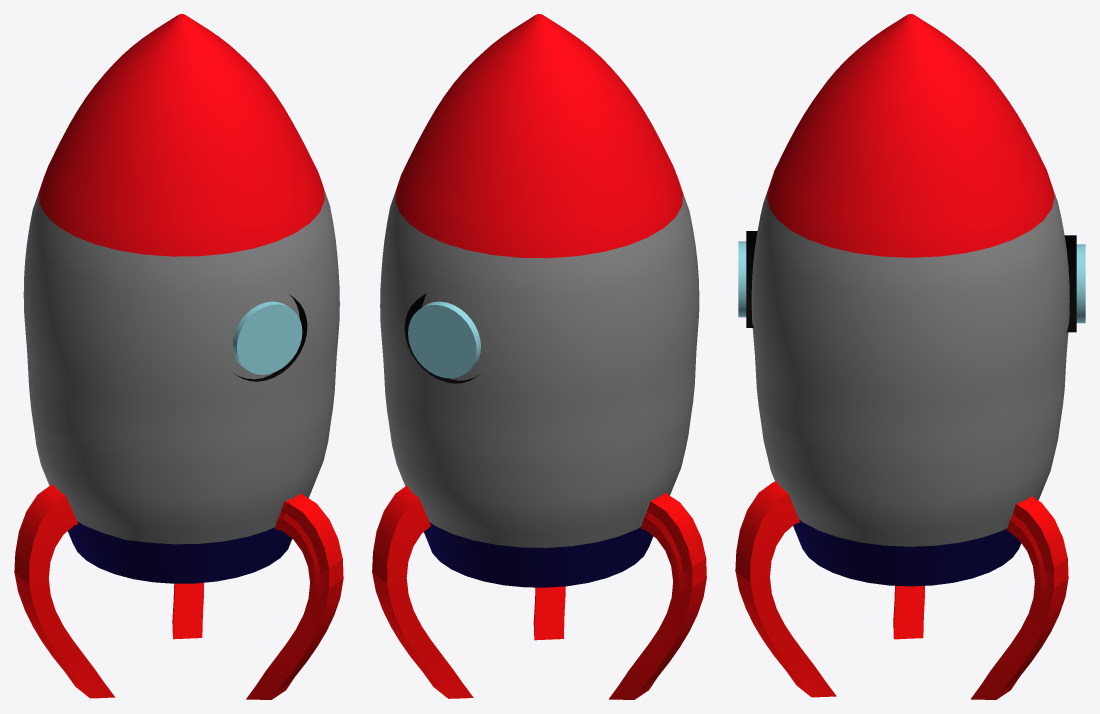
Rendered from roket.fbx.
The picture shows the model from 3 angles, left to right: view 1: azimuth 30°, elevation 25°; view 2: azimuth 150°, elevation 25°; view 3: azimuth 270°, elevation 25°; orthographic projection.
Visible parts, largest first — view 1: Roket_ana_gövde, Roket_kafası, Roket_itici, Ayak_3, Ayak_2, Pencere_2, Ayak_1, Pencere_çerçeveleri; view 2: Roket_ana_gövde, Roket_kafası, Roket_itici, Ayak_3, Ayak_1, Pencere_1, Ayak_2, Pencere_çerçeveleri; view 3: Roket_ana_gövde, Roket_kafası, Roket_itici, Ayak_2, Ayak_1, Ayak_3, Pencere_çerçeveleri, Pencere_1, Pencere_2.
Part boxes in pixels (box(x1,y1,x2,y2)): Roket_ana_gövde: box(23, 189, 339, 544); Roket_kafası: box(39, 14, 324, 256); Roket_itici: box(68, 521, 291, 583); Ayak_3: box(14, 484, 115, 698); Ayak_2: box(246, 493, 343, 699); Pencere_2: box(233, 301, 302, 374); Ayak_1: box(172, 582, 203, 639); Pencere_çerçeveleri: box(234, 294, 307, 381); Roket_ana_gövde: box(380, 191, 699, 547); Roket_kafası: box(395, 14, 683, 258); Roket_itici: box(424, 522, 653, 587); Ayak_3: box(609, 492, 706, 699); Ayak_1: box(372, 485, 473, 698); Pencere_1: box(408, 301, 480, 378); Ayak_2: box(533, 586, 565, 640); Pencere_çerçeveleri: box(404, 293, 479, 383); Roket_ana_gövde: box(751, 186, 1069, 546); Roket_kafası: box(767, 14, 1054, 257); Roket_itici: box(793, 519, 1021, 586); Ayak_2: box(735, 481, 836, 697); Ayak_1: box(971, 496, 1068, 699); Ayak_3: box(893, 585, 924, 639); Pencere_çerçeveleri: box(746, 231, 1076, 332); Pencere_1: box(1076, 244, 1085, 323); Pencere_2: box(738, 241, 746, 317).
Bounding box in the file's own units: 235 × 497 × 239.
